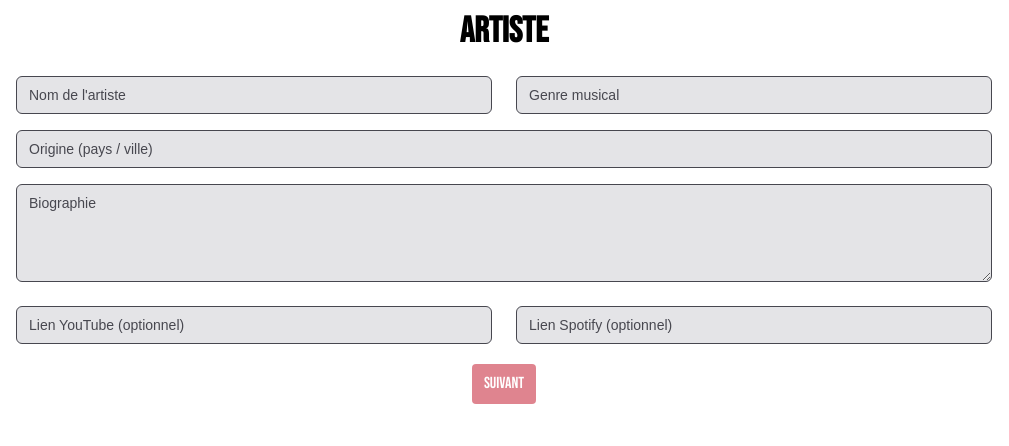
Scenario: AddArtistModal › affiche une erreur si l'URL YouTube ne correspond pas au domaine attendu
This screenshot has width=1009, height=446.
# remplir les champs requis de l'etape 1
Type "Test" into the field with placeholder "Nom de l'artiste" at (254, 95), box [16, 76, 492, 114]
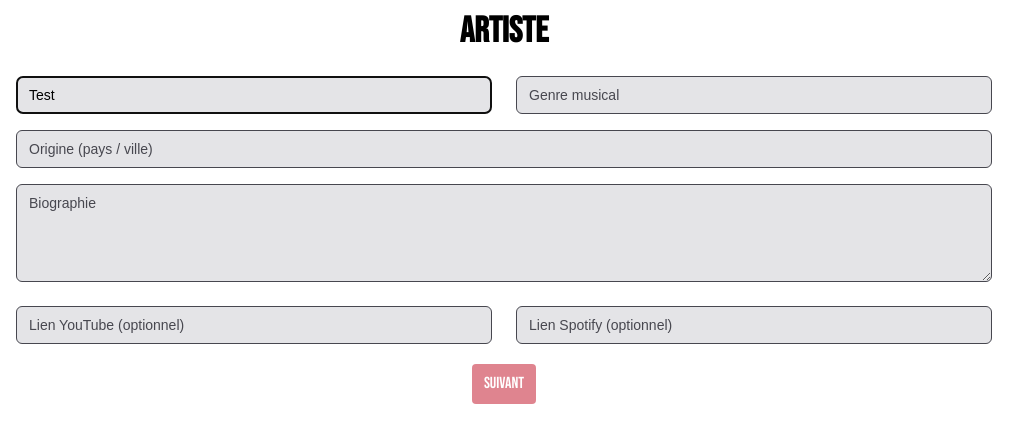
Type "Rock" into the field with placeholder "Genre musical" at (754, 95), box [516, 76, 992, 114]
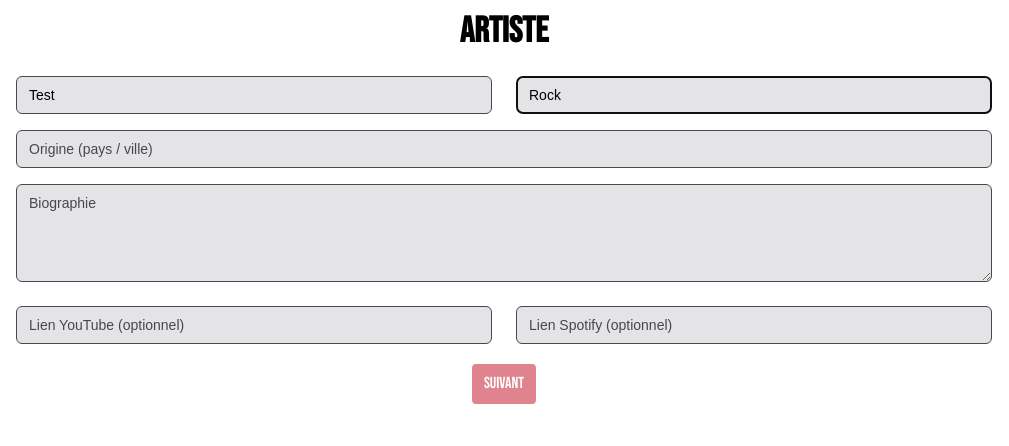
Type "France" into the field with placeholder "Origine (pays / ville)" at (504, 149), box [16, 130, 992, 168]
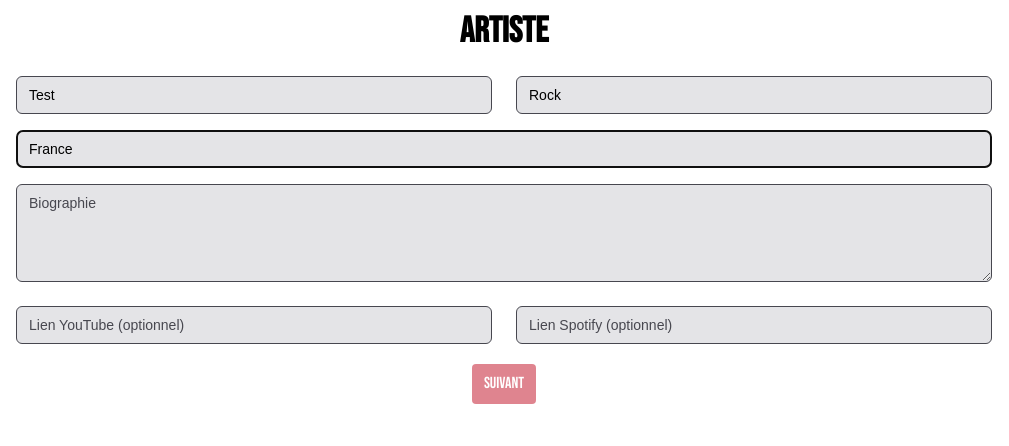
Type "Une bio." into the text box with placeholder "Biographie" at (504, 233), box [16, 184, 992, 282]
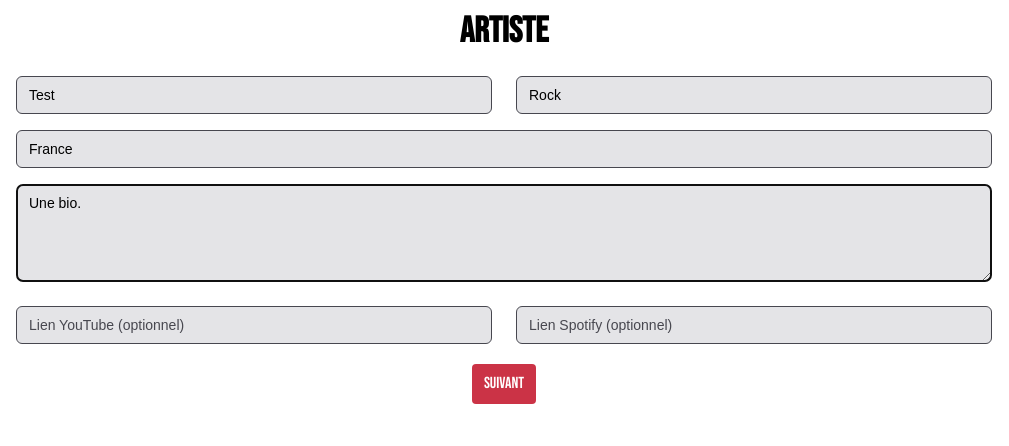
# saisir une URL YouTube invalide
Type "https://vimeo.com/123456" into the field with placeholder "Lien YouTube (optionnel)" at (254, 325), box [16, 306, 492, 344]
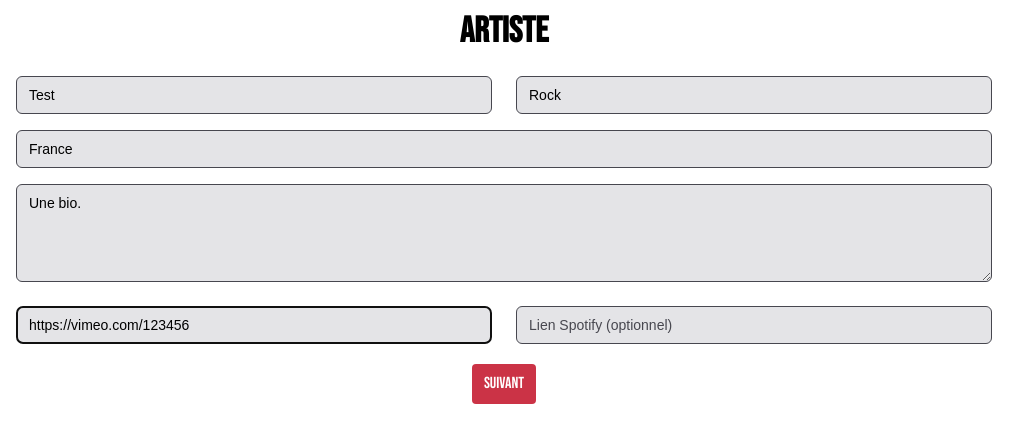
Click the button "Suivant" at (504, 384), box [472, 364, 536, 404]
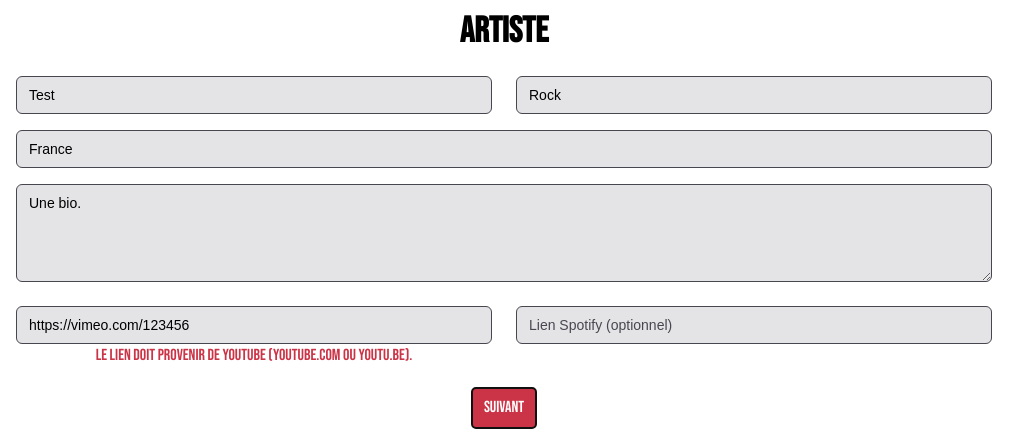
Check: the text "Le lien doit provenir de YouTube (youtube.com ou youtu.be)." is shown, box [96, 346, 412, 365]
